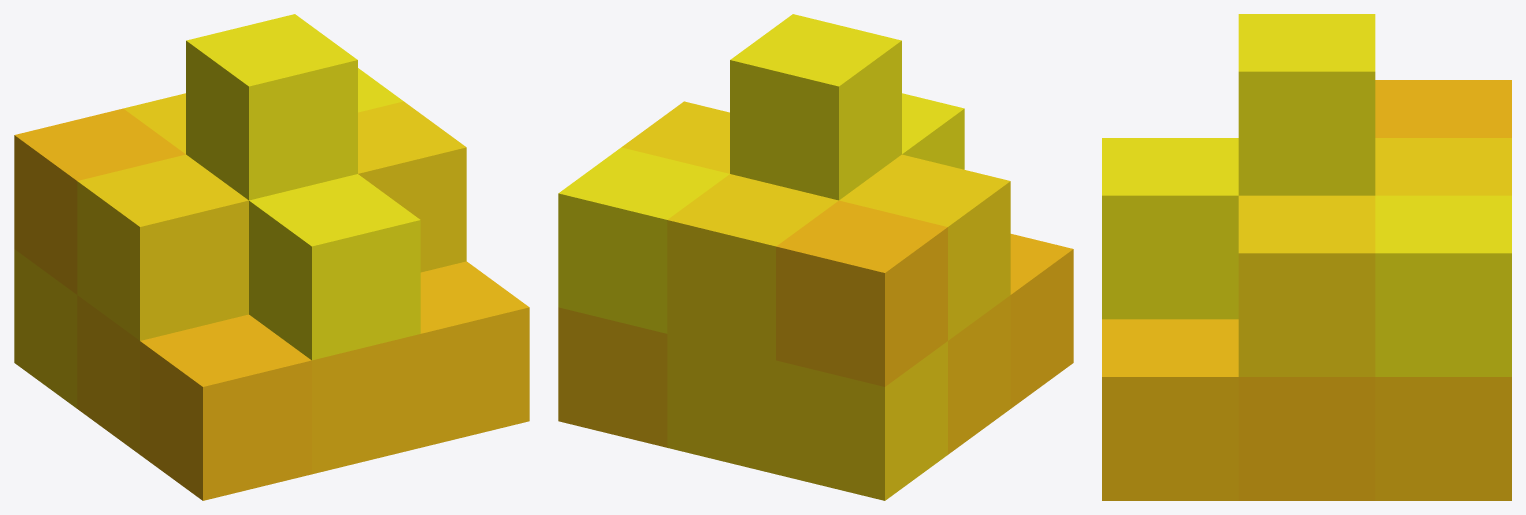
Rendered from wall_torch-3-flames.obj.
3 renders of one model, left to right at view 1: azimuth 30°, elevation 25°; view 2: azimuth 150°, elevation 25°; view 3: azimuth 270°, elevation 25°, orthographic. The views are drawn at different scales.
Visible parts, largest first — view 1: flames; view 2: flames; view 3: flames.
Part boxes in pixels (<box>): flames: <box>14,14,529,500</box>; flames: <box>558,14,1073,500</box>; flames: <box>1102,14,1511,500</box>.
Size of the model in its own units: 0.3 by 0.3 by 0.3.
1 material, 1 textured.
